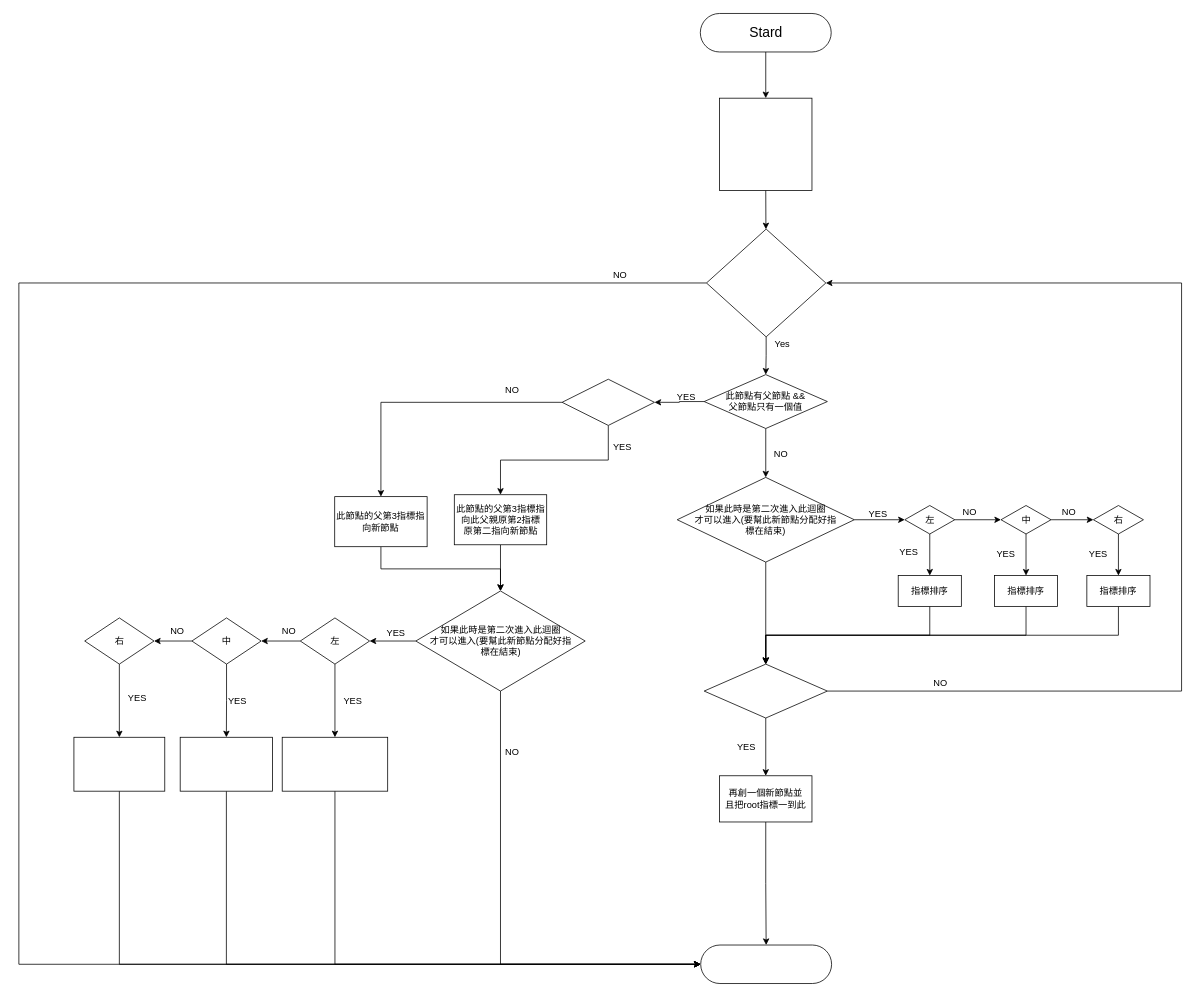
The diagram is 1201 pixels wide and 997 high, and some of its shapes have lost their labels. The shapes that lost their labels are listed below. From the top down, each one's box as (x1, y1, x2, y2) in pixels, then its label:
(719, 97, 812, 191): 因為進入此分裂函式的節點都是要做分裂，故先創建一個新節點並且用container當作暫存空間存取當節點的2個值與新值並排序還有三個指標
(706, 228, 826, 337): For迴圈搭配由下 至上的節點尋訪路徑 直到跟節點結束
(561, 378, 654, 425): 判斷此節點是 在父節點的左
(703, 663, 827, 718): 判斷此分裂點是不是 在根節點
(73, 737, 165, 791): 當分裂ptr0=上層分裂 當分裂ptr1=上層新增
(179, 737, 273, 791): 當分裂ptr0=上層新增 當分裂ptr1=當層新增
(281, 737, 388, 791): 當分裂ptr1=上層新增 當新ptr0=當層分裂ptr1 當新ptr1=當層新增ptr2
(700, 944, 832, 984): End
